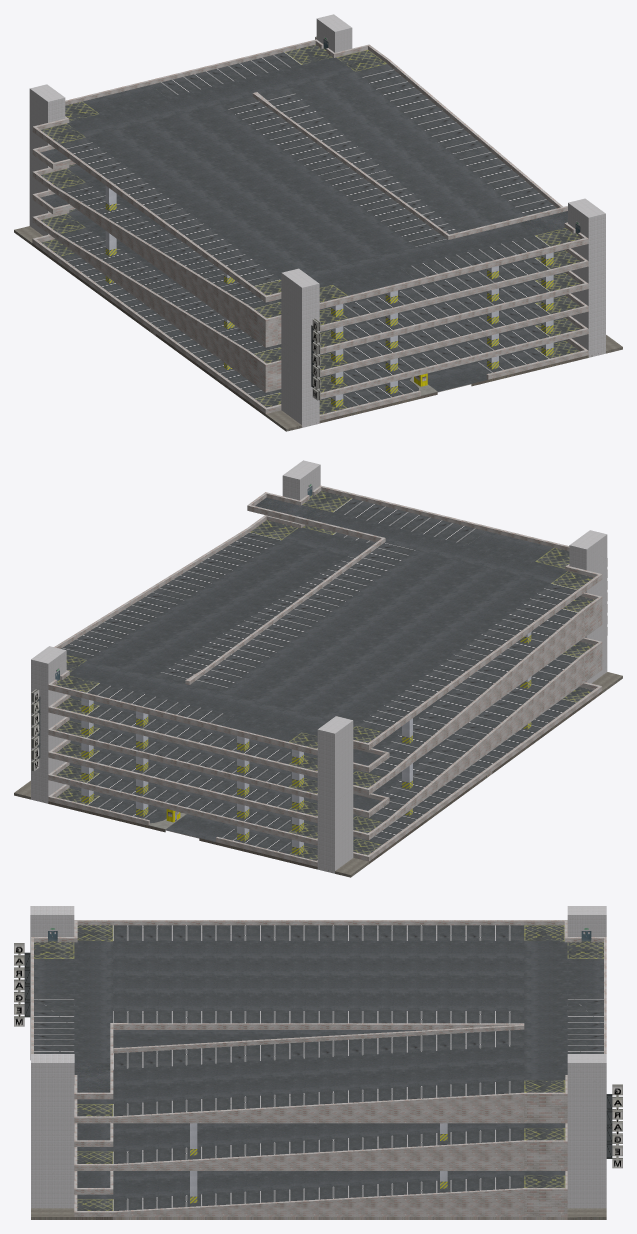
The model's file is multicarpark01_lvs.obj.
The picture shows the model from 3 angles, top to bottom: view 1: azimuth 30°, elevation 25°; view 2: azimuth 150°, elevation 25°; view 3: azimuth 270°, elevation 25°; orthographic projection. The views are drawn at different scales.
Visible parts, largest first — view 1: multicarpark01_lvS; view 2: multicarpark01_lvS; view 3: multicarpark01_lvS.
Part boxes in pixels (x1,y1,x2,y2): multicarpark01_lvS: [14, 14, 622, 431]; multicarpark01_lvS: [14, 460, 622, 877]; multicarpark01_lvS: [14, 906, 622, 1219].
Bounding box in the file's own units: 100 × 39.75 × 148.
Materials: 20 (20 with a texture image).
